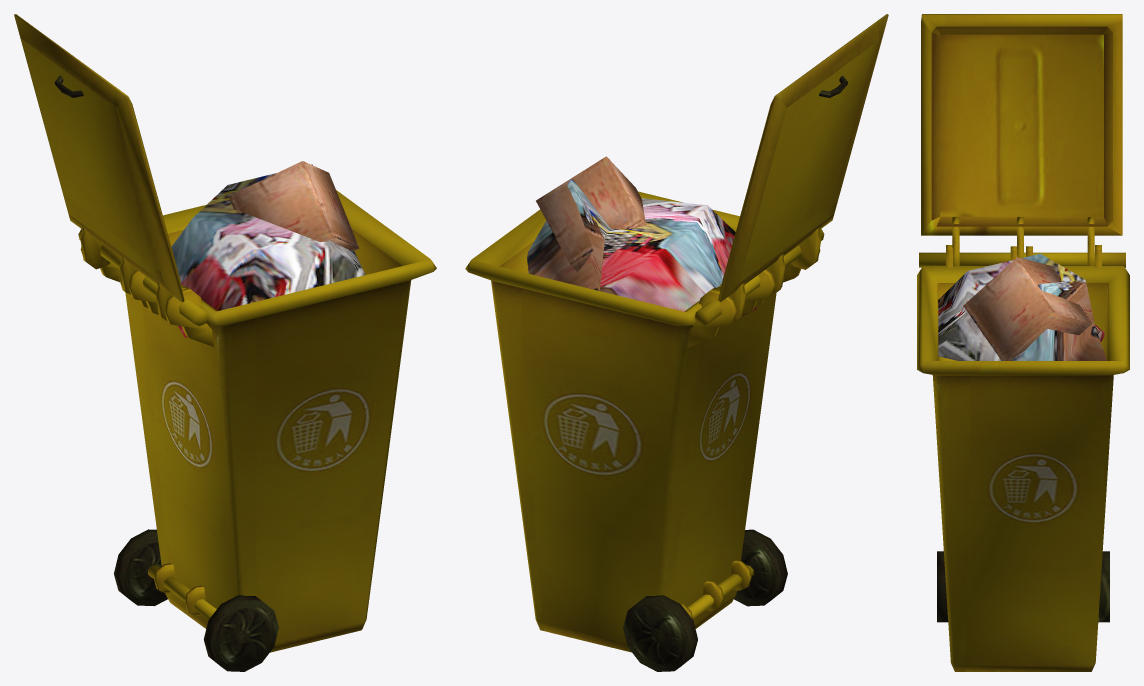
The model's file is ven_trash_yellow.fbx.
The picture shows the model from 3 angles, left to right: view 1: azimuth 30°, elevation 25°; view 2: azimuth 150°, elevation 25°; view 3: azimuth 270°, elevation 25°; orthographic projection. The views are drawn at different scales.
Visible parts, largest first — view 1: polymsh, polymsh10; view 2: polymsh, polymsh10; view 3: polymsh, polymsh10.
Boxes of the visible parts, <box> form: polymsh: <box>80,161,436,671</box>; polymsh10: <box>14,14,207,326</box>; polymsh: <box>465,156,820,671</box>; polymsh10: <box>694,14,888,325</box>; polymsh: <box>917,245,1129,671</box>; polymsh10: <box>919,14,1125,267</box>.
Size of the model in its own units: 1.49 by 2.72 by 0.9541.
